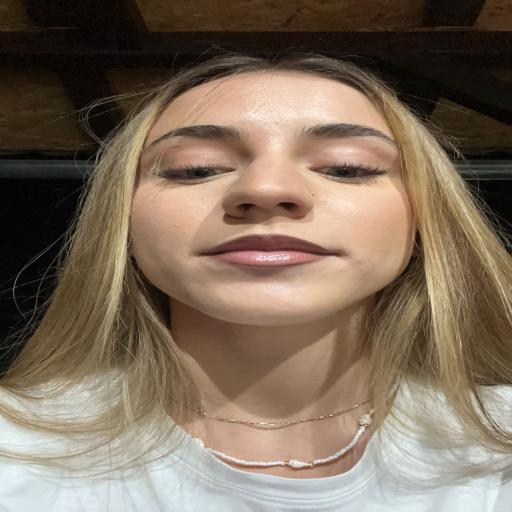masa: (144, 71, 442, 314)
